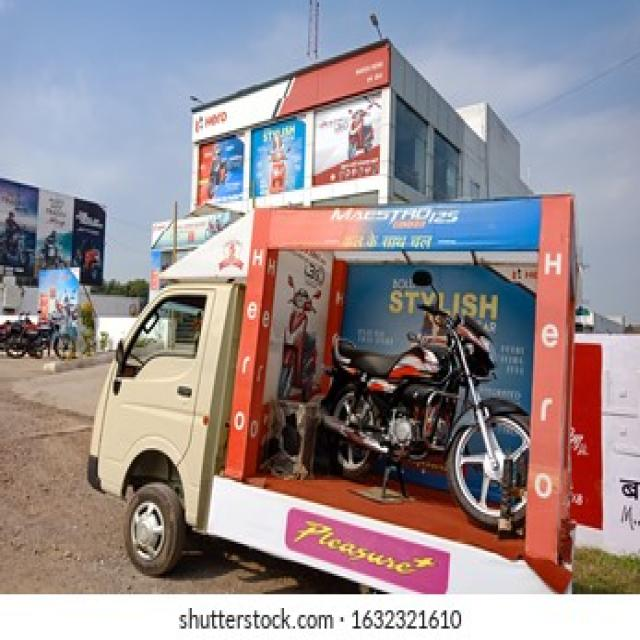TRUCK: (84, 202, 628, 587)
